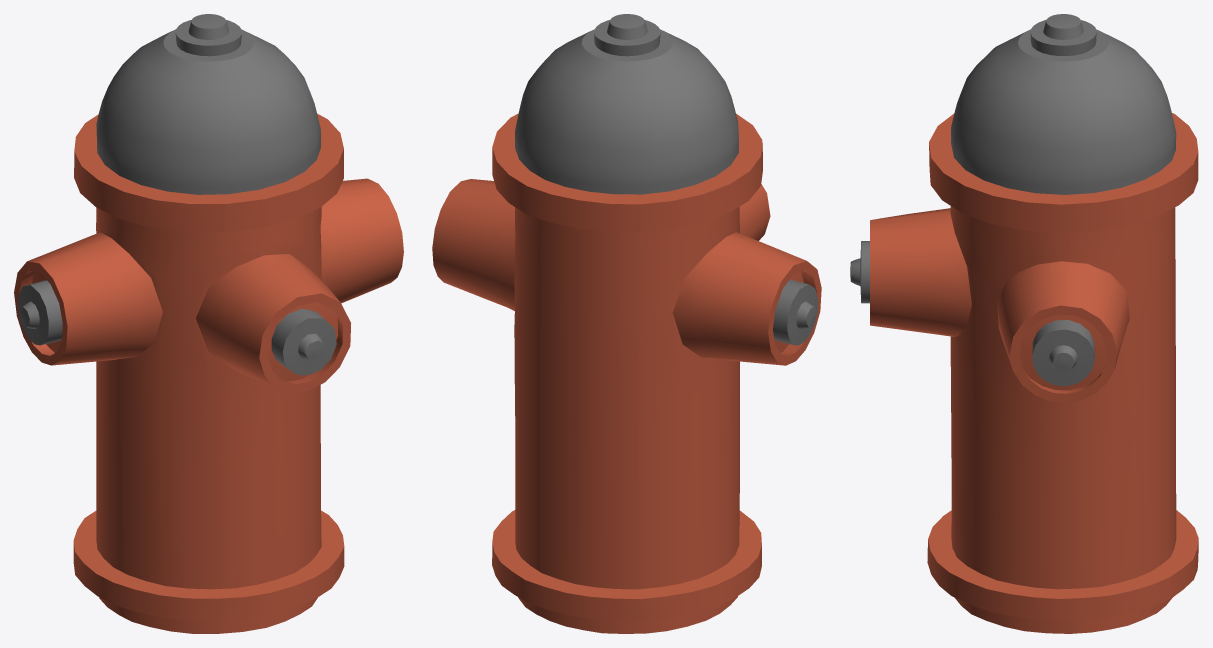
The model's file is fireHydrant.0001.fbx.
3 renders of one model, left to right at view 1: azimuth 30°, elevation 25°; view 2: azimuth 150°, elevation 25°; view 3: azimuth 270°, elevation 25°, orthographic.
Parts seen in each view (by area): view 1: fireHydrant_GEO; view 2: fireHydrant_GEO; view 3: fireHydrant_GEO.
Part boxes in pixels (x1,y1,x2,y2): fireHydrant_GEO: (14, 14, 403, 633); fireHydrant_GEO: (432, 14, 821, 633); fireHydrant_GEO: (850, 14, 1198, 633).
Size of the model in its own units: 0.2592 by 0.3787 by 0.2114.
